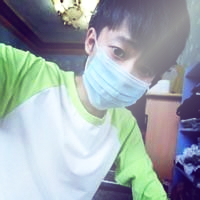face_mask: (89, 14, 166, 110)
